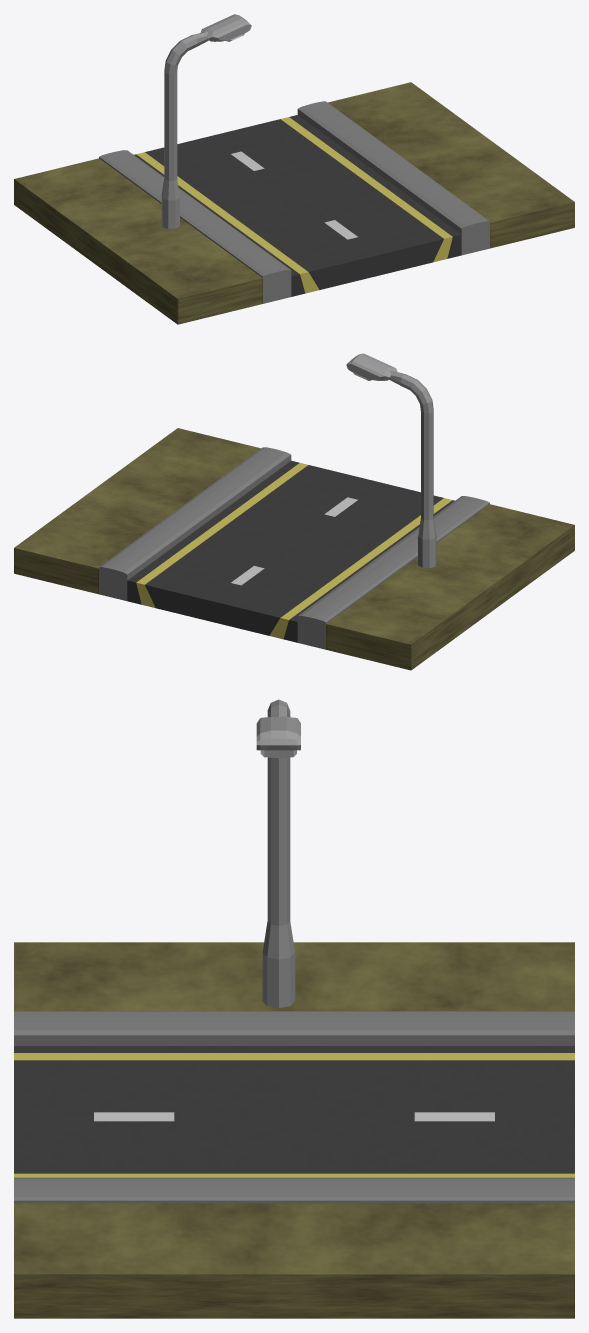
File: Road(R)1.fbx
The picture shows the model from 3 angles, top to bottom: view 1: azimuth 30°, elevation 25°; view 2: azimuth 150°, elevation 25°; view 3: azimuth 270°, elevation 25°; orthographic projection. The views are drawn at different scales.
Parts seen in each view (by area): view 1: Road(L); view 2: Road(L); view 3: Road(L).
Boxes of the visible parts, bbox=[...] form: Road(L): bbox=[14, 14, 574, 324]; Road(L): bbox=[14, 353, 574, 670]; Road(L): bbox=[14, 699, 574, 1318].
Size of the model in its own units: 1400 by 732 by 1000.
8 materials, 2 textured.
